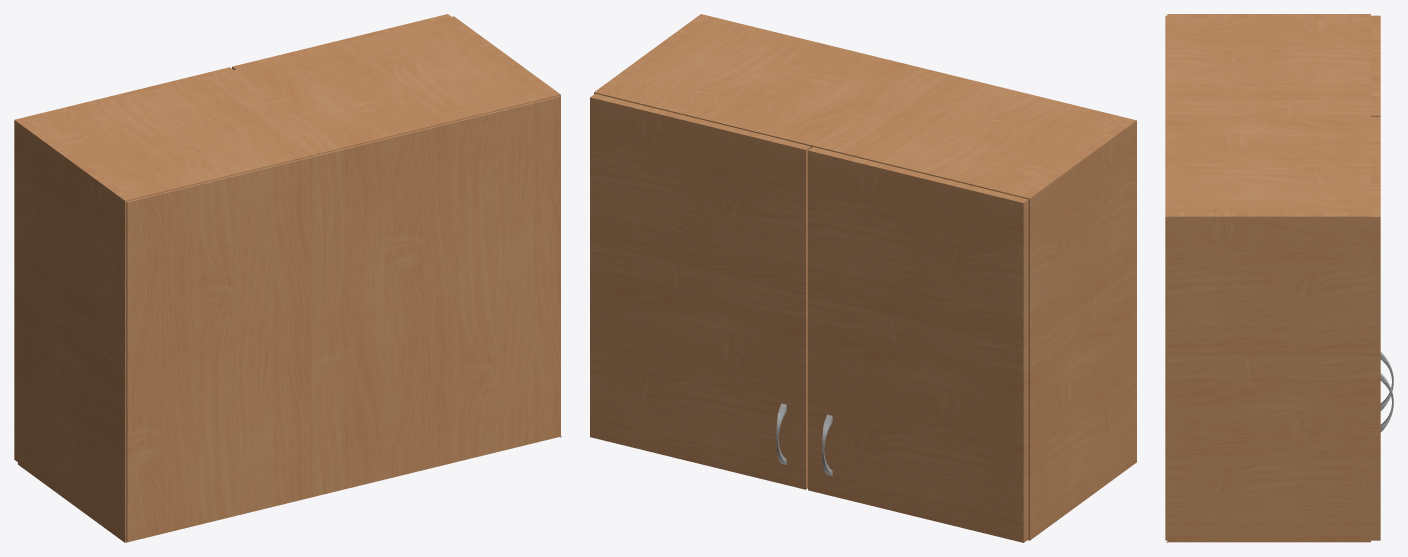
File: antresol_dlya_shkafa_2.glb
3 views of the same model, side by side, from view 1: azimuth 30°, elevation 25°; view 2: azimuth 150°, elevation 25°; view 3: azimuth 270°, elevation 25° (orthographic). The views are drawn at different scales.
Parts seen in each view (by area): view 1: Shape_IndexedFaceSet.004_NON, Shape_IndexedFaceSet.008, Shape_IndexedFaceSet.006, Shape_IndexedFaceSet.003, Shape_IndexedFaceSet.005, Shape_IndexedFaceSet.001; view 2: Shape_IndexedFaceSet.003, Shape_IndexedFaceSet.001, Shape_IndexedFaceSet.008, Shape_IndexedFaceSet.006, Shape_IndexedFaceSet.005; view 3: Shape_IndexedFaceSet.005, Shape_IndexedFaceSet.008, Shape_IndexedFaceSet.001, Shape_IndexedFaceSet.004_NON, Shape_IndexedFaceSet.003, Shape_IndexedFaceSet.006.
Part boxes in pixels (left/top/right/bottom): Shape_IndexedFaceSet.004_NON: left=126, top=96, right=560, bottom=542; Shape_IndexedFaceSet.008: left=27, top=18, right=552, bottom=199; Shape_IndexedFaceSet.006: left=18, top=120, right=133, bottom=542; Shape_IndexedFaceSet.003: left=14, top=67, right=233, bottom=461; Shape_IndexedFaceSet.005: left=445, top=16, right=560, bottom=97; Shape_IndexedFaceSet.001: left=232, top=14, right=451, bottom=69; Shape_IndexedFaceSet.003: left=808, top=147, right=1028, bottom=542; Shape_IndexedFaceSet.001: left=590, top=93, right=810, bottom=489; Shape_IndexedFaceSet.008: left=602, top=16, right=1127, bottom=197; Shape_IndexedFaceSet.006: left=1021, top=118, right=1136, bottom=540; Shape_IndexedFaceSet.005: left=594, top=14, right=709, bottom=95; Shape_IndexedFaceSet.005: left=1167, top=212, right=1370, bottom=542; Shape_IndexedFaceSet.008: left=1167, top=18, right=1370, bottom=212; Shape_IndexedFaceSet.001: left=1371, top=117, right=1380, bottom=540; Shape_IndexedFaceSet.004_NON: left=1165, top=15, right=1167, bottom=540; Shape_IndexedFaceSet.003: left=1371, top=15, right=1380, bottom=116; Shape_IndexedFaceSet.006: left=1167, top=14, right=1370, bottom=17.
Bounding box in the file's own units: 801 × 601 × 381.
Materials: 11 (10 with a texture image).
